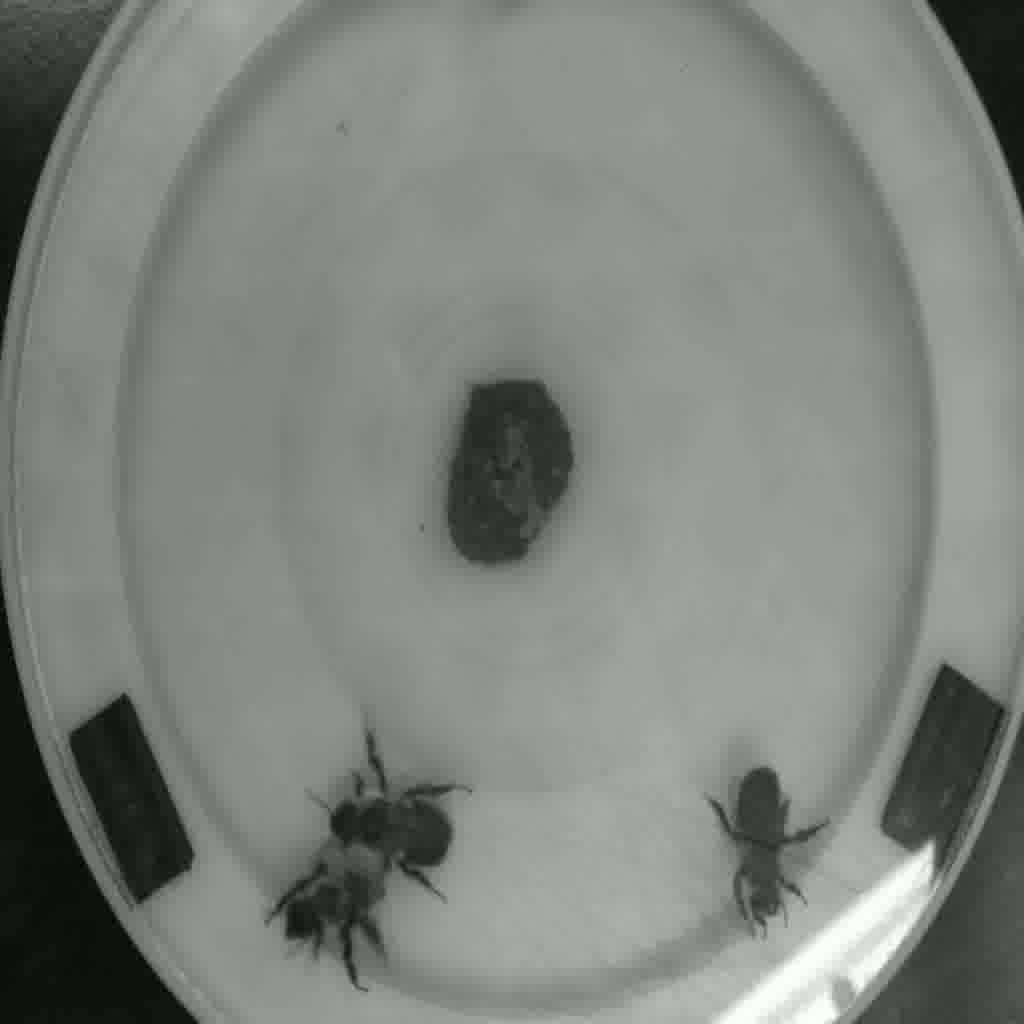bee: (709, 764, 838, 925), (329, 757, 471, 891), (255, 856, 410, 977)
